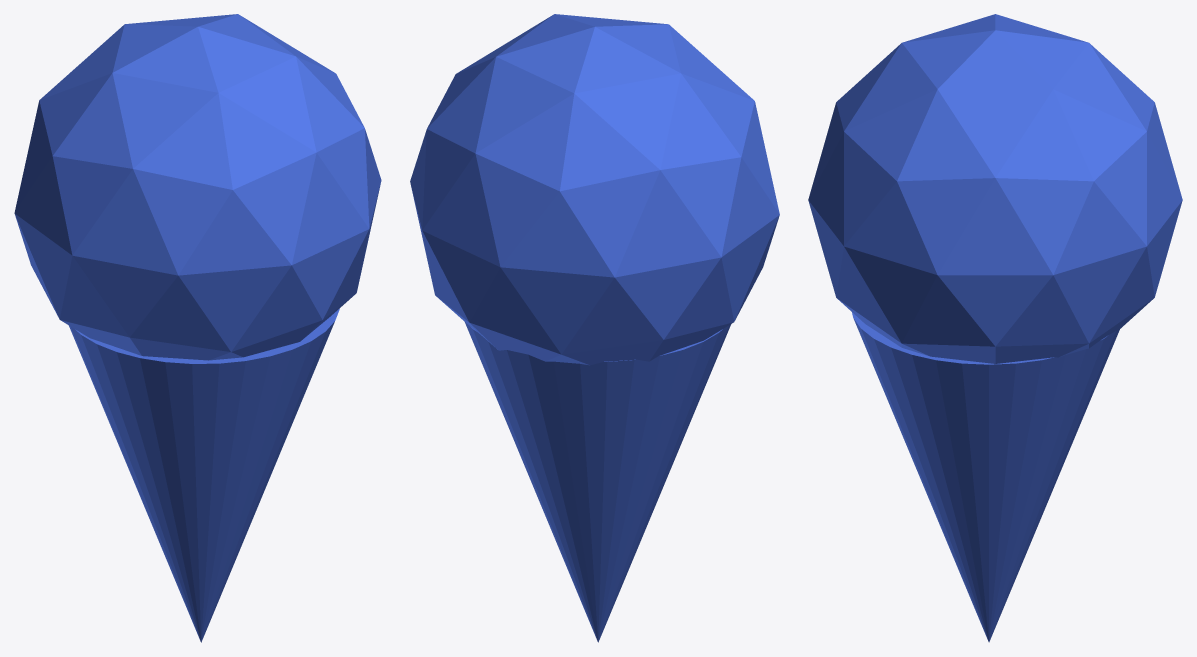
The model's file is pin-blue.glb.
3 views of the same model, side by side, from view 1: azimuth 30°, elevation 25°; view 2: azimuth 150°, elevation 25°; view 3: azimuth 270°, elevation 25° (orthographic).
Parts seen in each view (by area): view 1: Icosphere, Cone; view 2: Icosphere, Cone; view 3: Icosphere, Cone.
Boxes of the visible parts, x1=… form: Icosphere: x1=14, y1=14, x2=381, y2=360; Cone: x1=69, y1=309, x2=339, y2=642; Icosphere: x1=410, y1=14, x2=779, y2=365; Cone: x1=465, y1=322, x2=731, y2=642; Icosphere: x1=808, y1=14, x2=1182, y2=363; Cone: x1=852, y1=312, x2=1119, y2=642.
Bounding box in the file's own units: 0.0881 × 0.1673 × 0.0927.
